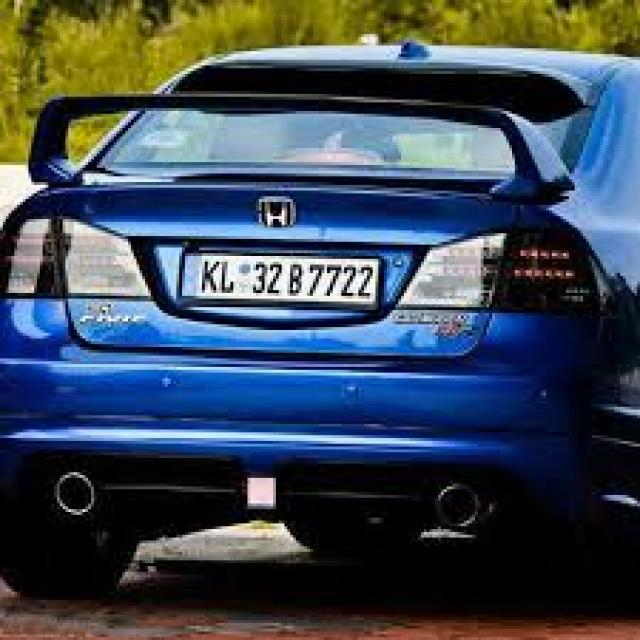Number-Plate: (187, 256, 380, 302)
